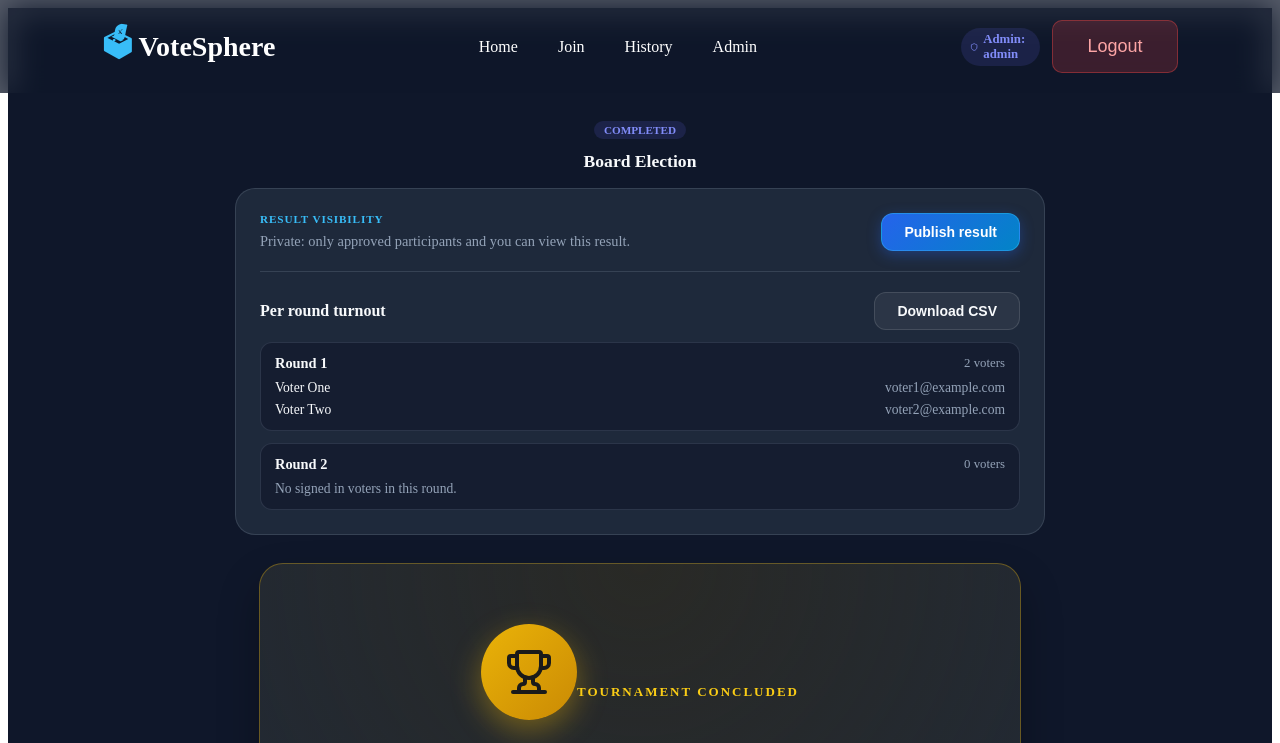
Test: Results page admin controls (AC-7, AC-12) › announces the refusal so assistive technology reads it out
Click the button with test id "publish-results-toggle" at point(951, 232), box [881, 213, 1020, 251]
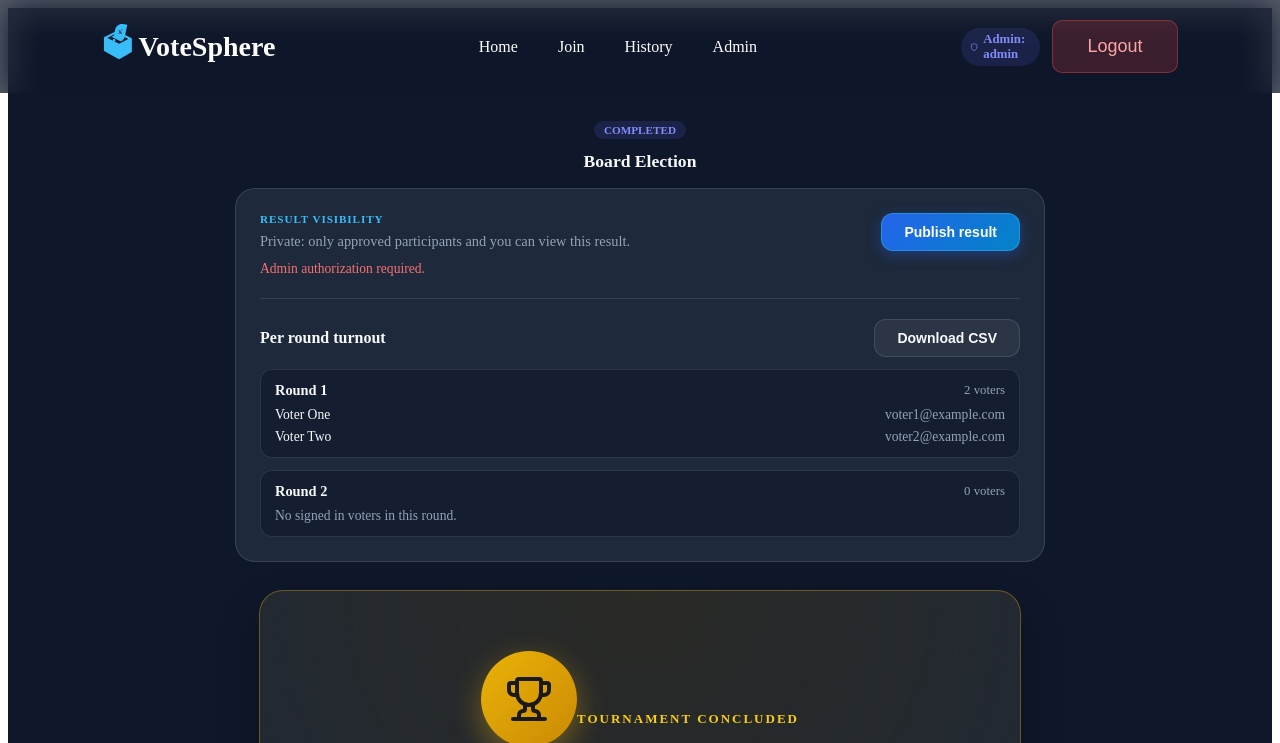
Result: the message reads "Admin authorization required." at [260, 261, 425, 276]
